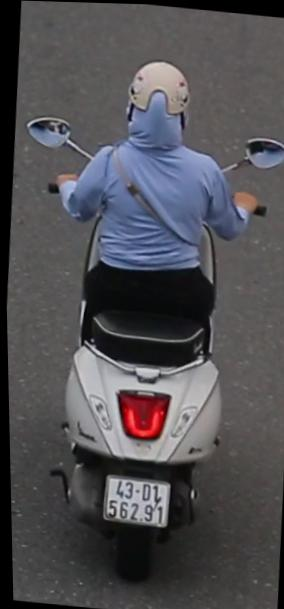LP: (97, 472, 173, 535)
helmet: (117, 52, 196, 159)
